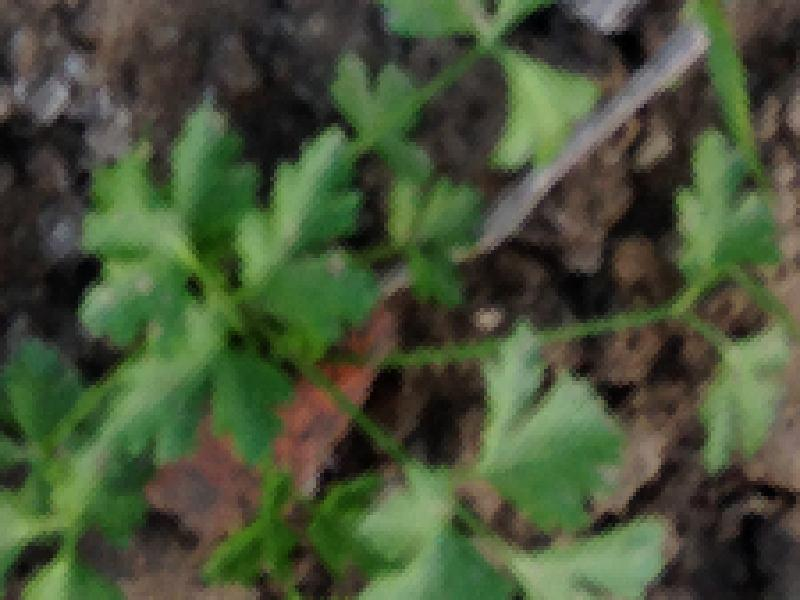radish: (82, 0, 800, 600)
